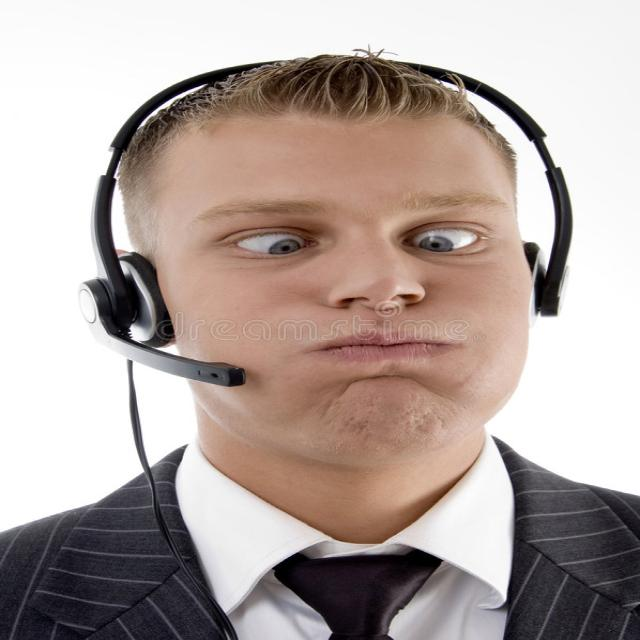Squint: (396, 206, 498, 262), (228, 215, 318, 263)
